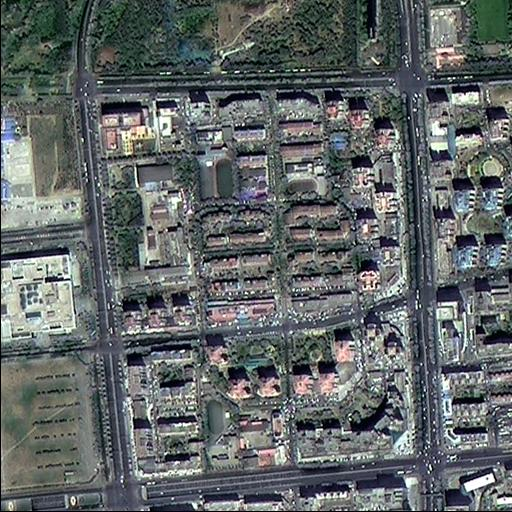school: (193, 120, 240, 210), (198, 373, 240, 473), (279, 158, 331, 200)
